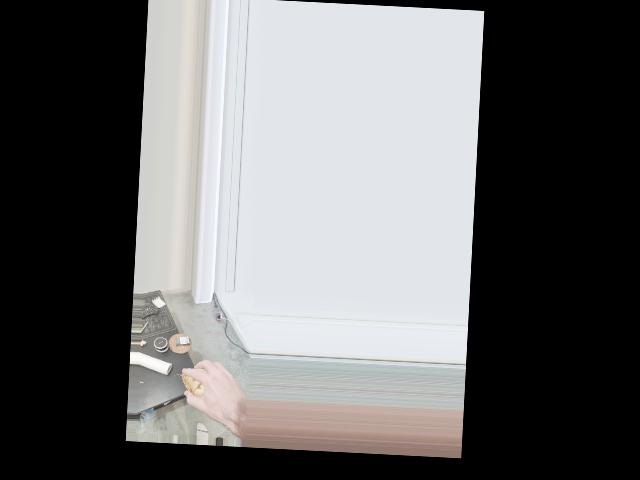onion: (178, 367, 224, 406)
